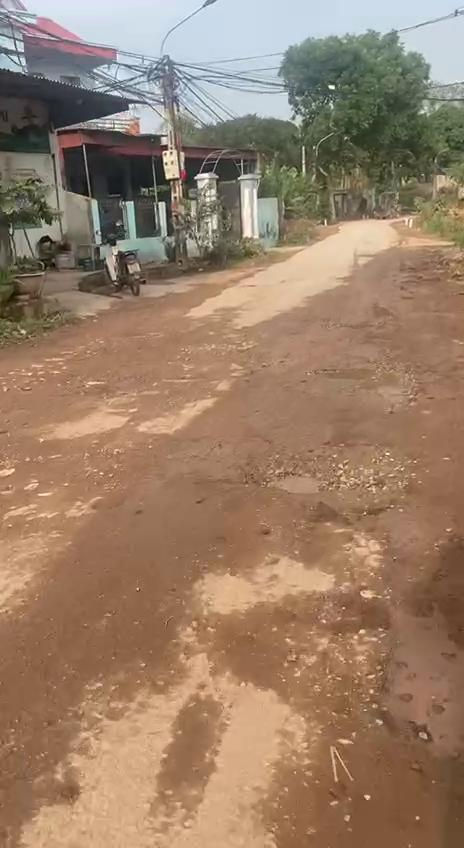pothole: (356, 611, 464, 755), (236, 442, 418, 512), (306, 364, 418, 405), (76, 376, 122, 398)
